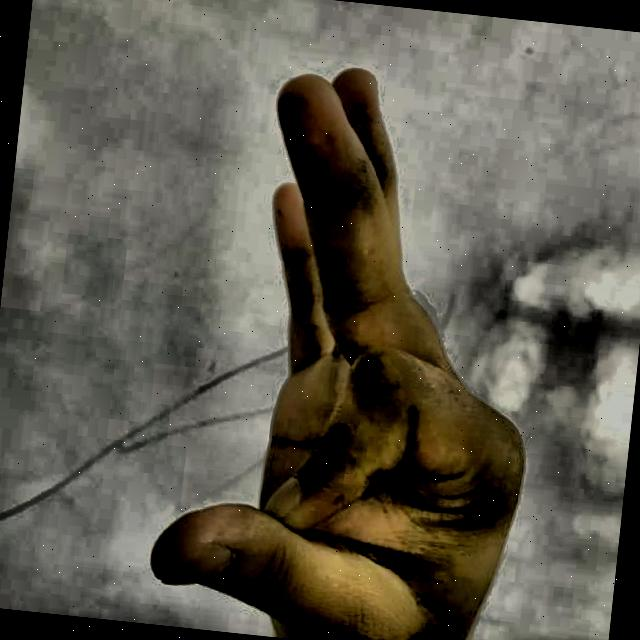Uo: (59, 15, 596, 640)
